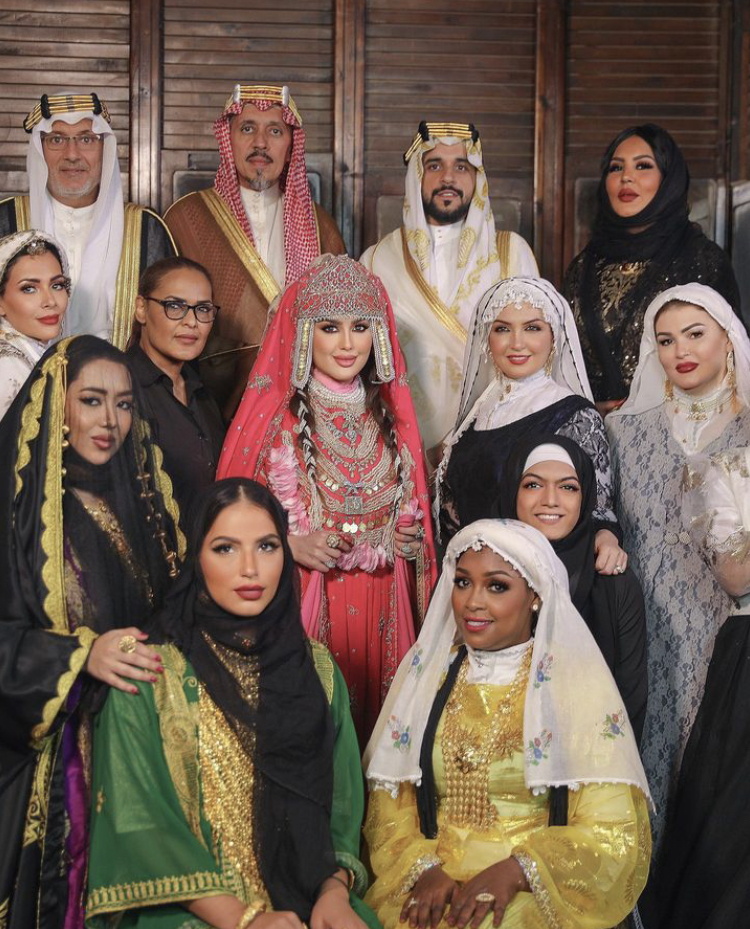Saudi_Founding_Day: (360, 516, 656, 929), (207, 242, 442, 760), (1, 330, 195, 929), (597, 277, 750, 835), (350, 113, 547, 485), (162, 77, 359, 432), (426, 271, 616, 606), (1, 88, 188, 374), (1, 222, 78, 447)
